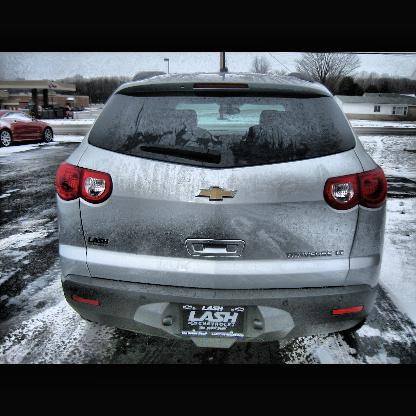Chevrolet Traverse SUV 2012: (56, 73, 386, 343)
